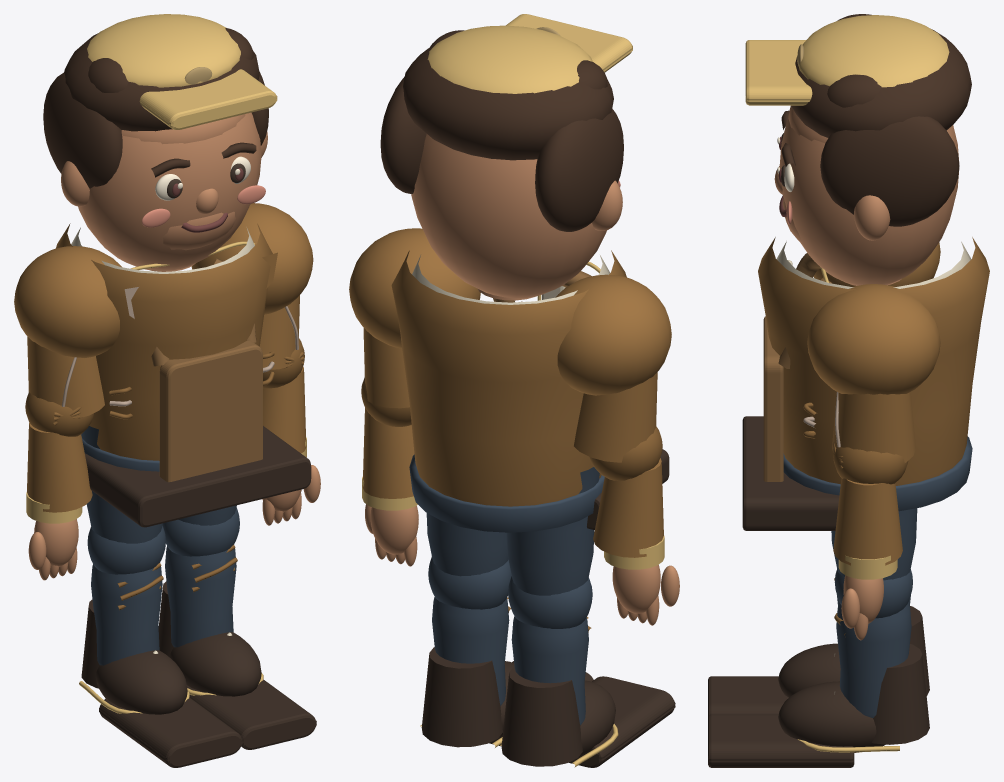
The model's file is wren.glb.
3 views of the same model, side by side, from view 1: azimuth 30°, elevation 25°; view 2: azimuth 150°, elevation 25°; view 3: azimuth 270°, elevation 25° (orthographic). The views are drawn at different scales.
Visible parts, largest first — view 1: Tailored coat, Face, Apron panel, Tool belt, Shoulder -1, Courier cap crown, Sole -1, Trousers calf -1, Trousers calf 1, Side hair -1, Shoulder 1, Courier cap bill (+25 smaller); view 2: Tailored coat, Face, Hair cap, Shoulder -1, Courier cap crown, Side hair -1, Shoulder 1, Boot shaft -1, Boot shaft 1, Trousers thigh -1, Trouser waistband, Sleeve forearm -1 (+22 smaller); view 3: Tailored coat, Shoulder 1, Side hair 1, Face, Courier cap crown, Hair cap, Tool belt, Sole 1, Trousers calf 1, Sleeve forearm 1, Leather toe 1, Sleeve upper 1 (+19 smaller).
Part boxes in pixels (x1,y1,x2,y2): Tailored coat: (56, 223, 272, 460); Face: (78, 112, 261, 270); Apron panel: (159, 341, 262, 482); Tool belt: (85, 426, 311, 527); Shoulder -1: (14, 246, 121, 357); Courier cap crown: (87, 14, 240, 87); Sole -1: (99, 697, 242, 767); Trousers calf -1: (91, 564, 162, 665); Trousers calf 1: (165, 546, 236, 647); Side hair -1: (43, 72, 122, 188); Shoulder 1: (191, 203, 313, 314); Courier cap bill: (139, 69, 277, 129); Tailored coat: (391, 250, 626, 506); Face: (411, 134, 606, 298); Hair cap: (403, 47, 613, 160); Shoulder -1: (555, 274, 671, 395); Courier cap crown: (427, 25, 592, 93); Side hair -1: (535, 109, 623, 231); Shoulder 1: (349, 228, 480, 348); Boot shaft -1: (501, 666, 582, 766); Boot shaft 1: (421, 647, 502, 747); Trousers thigh -1: (506, 467, 599, 595); Trouser waistband: (409, 454, 604, 532); Sleeve forearm -1: (593, 458, 663, 557); Tailored coat: (758, 237, 989, 485); Shoulder 1: (807, 284, 940, 394); Side hair 1: (820, 116, 959, 226); Face: (779, 113, 959, 285); Courier cap crown: (797, 15, 949, 87); Hair cap: (791, 29, 971, 137); Tool belt: (742, 416, 839, 530); Sole 1: (708, 714, 854, 767); Trousers calf 1: (836, 602, 911, 717); Sleeve forearm 1: (833, 478, 902, 565); Leather toe 1: (778, 681, 885, 752); Sleeve upper 1: (832, 392, 915, 462).
Size of the model in its own units: 1.25 by 2.75 by 1.
